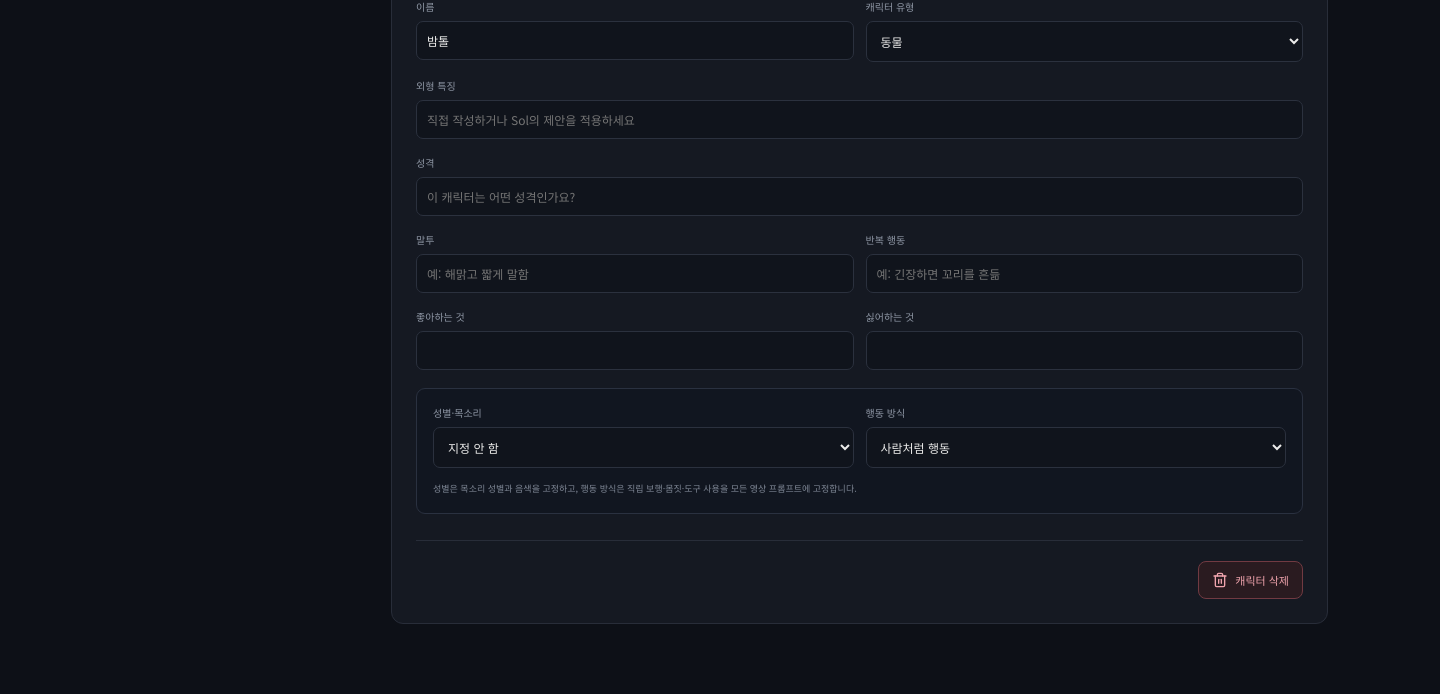
Test: 캐릭터 삭제 화면 › 마지막 캐릭터를 삭제하면 빈 보관함에서 새 캐릭터 추가 버튼을 표시한다
(page scrolled)
Click the button "캐릭터 삭제": (1251, 580) top-left (1198, 561), bottom-right (1303, 599)
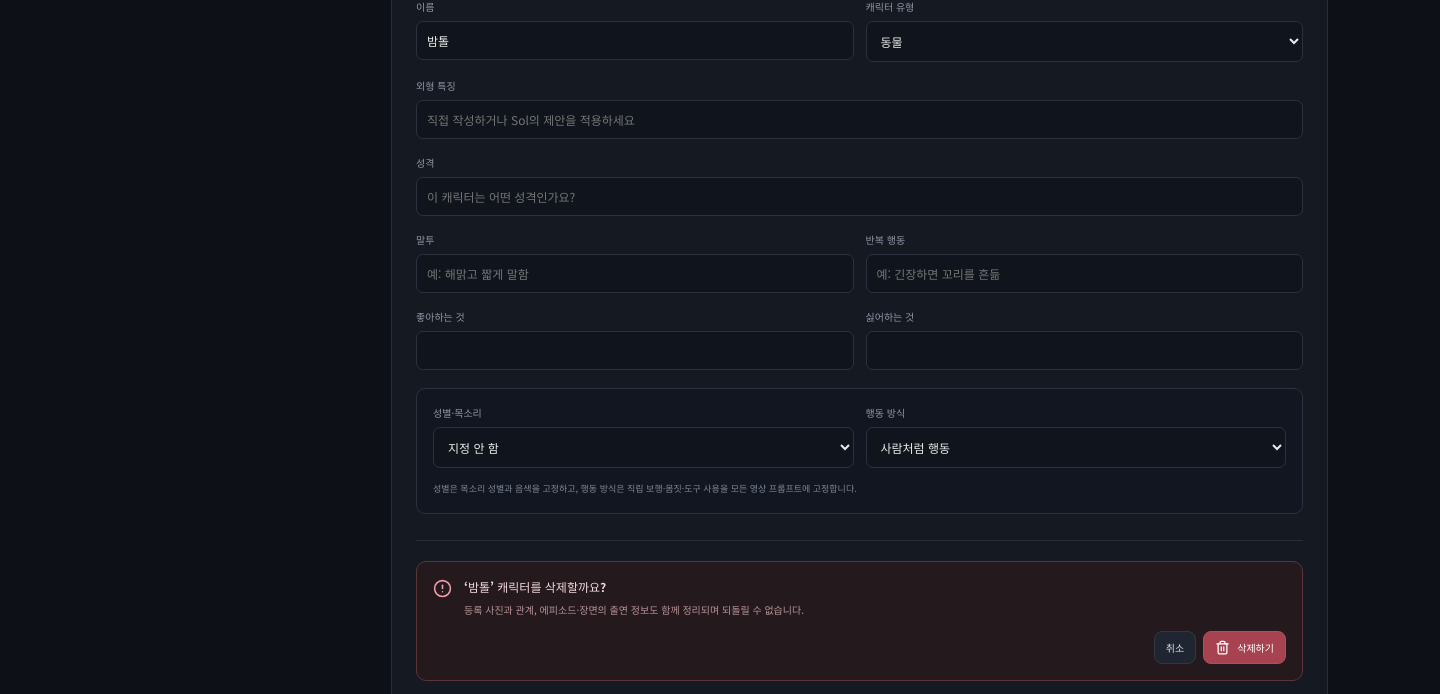
Click the button "삭제하기": (1245, 648) top-left (1203, 631), bottom-right (1286, 664)
(page scrolled)
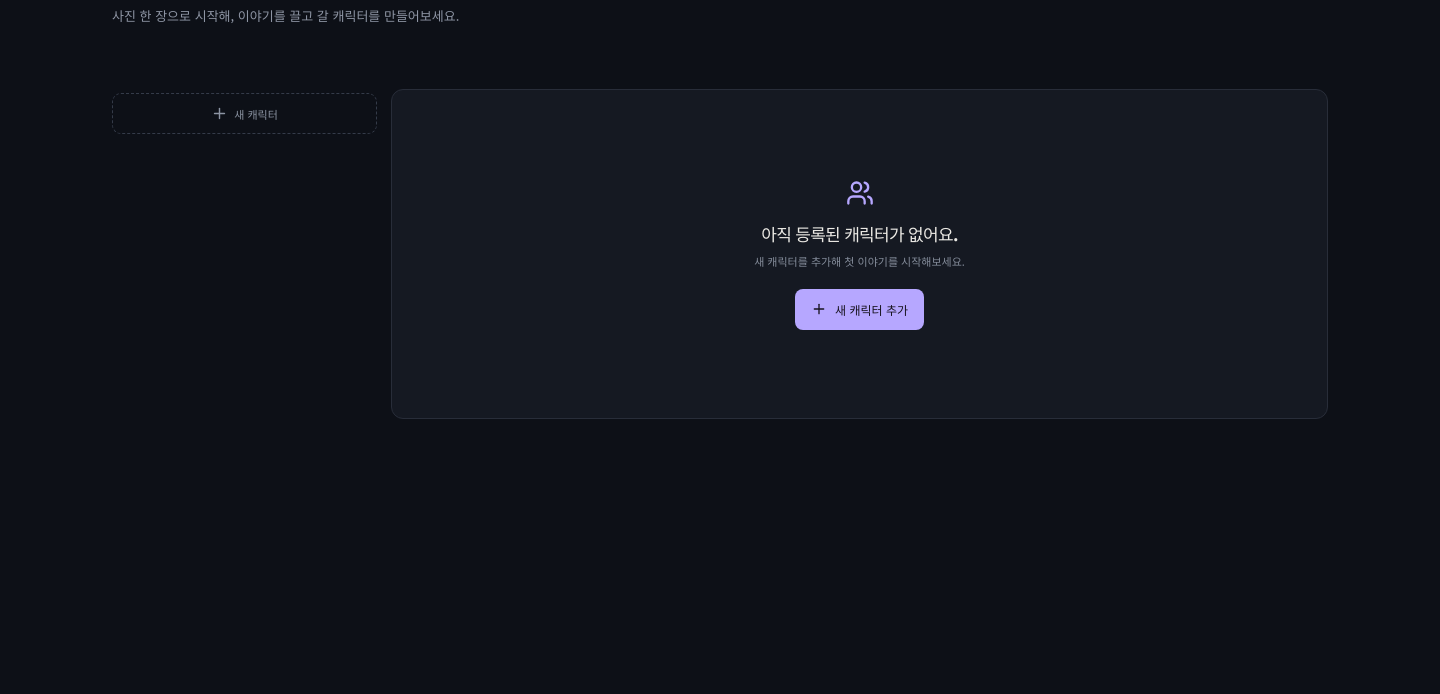
Expected: the text "아직 등록된 캐릭터가 없어요" is shown, top-left (761, 221), bottom-right (958, 246)
Expected: the button "새 캐릭터 추가" is shown, top-left (795, 289), bottom-right (924, 330)
